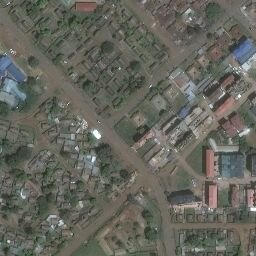tree: (94, 143, 111, 159), (17, 146, 32, 158), (101, 40, 114, 53), (144, 227, 156, 240), (186, 234, 199, 246), (4, 154, 16, 166), (83, 80, 94, 93), (57, 208, 70, 219), (129, 60, 141, 71), (28, 55, 38, 68), (100, 163, 110, 176), (142, 211, 153, 221), (46, 192, 55, 203), (68, 196, 78, 205), (26, 76, 36, 85), (119, 169, 128, 178), (76, 180, 84, 190), (24, 226, 32, 234), (63, 192, 71, 200)
